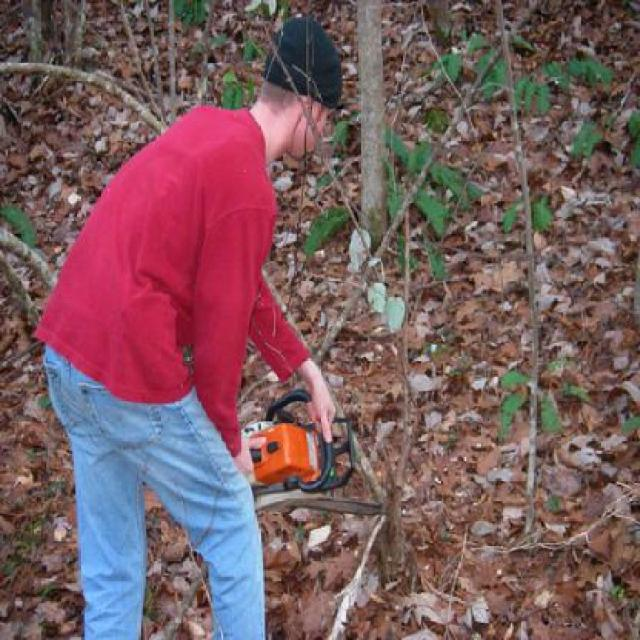Chainsaw: (236, 389, 390, 523)
